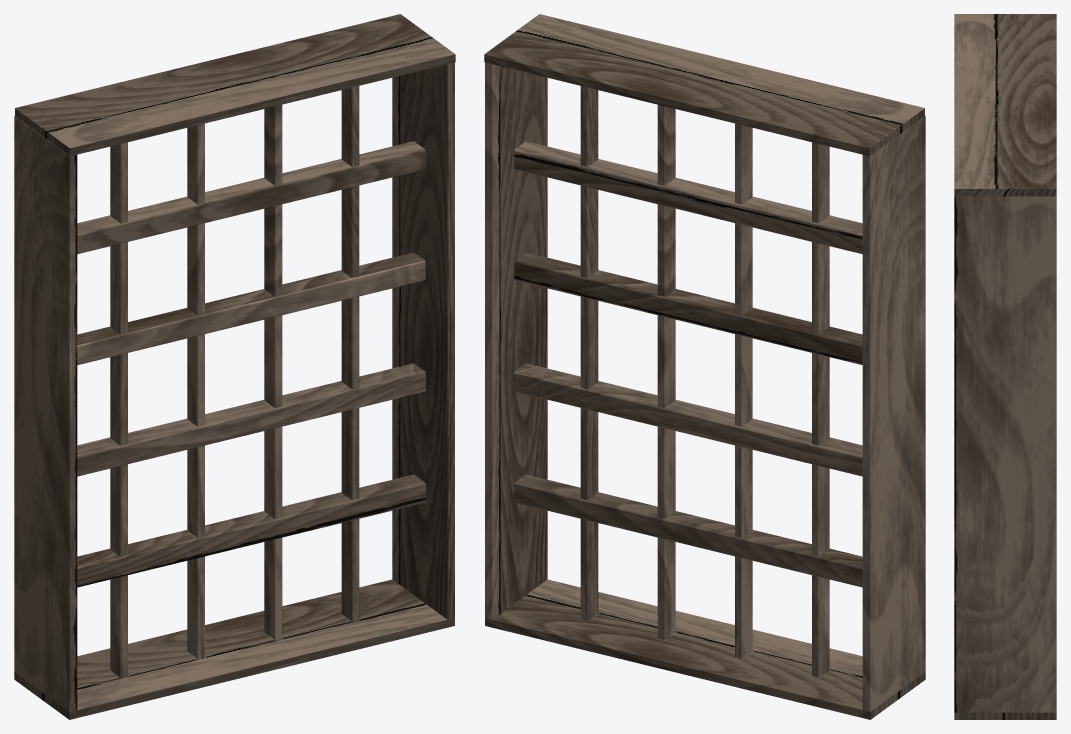
The model's file is SM_Window_Frame.fbx.
3 renders of one model, left to right at view 1: azimuth 30°, elevation 25°; view 2: azimuth 150°, elevation 25°; view 3: azimuth 270°, elevation 25°, orthographic. The views are drawn at different scales.
Visible parts, largest first — view 1: SM_Window_Frame; view 2: SM_Window_Frame; view 3: SM_Window_Frame.
Part boxes in pixels (x1,y1,x2,y2): SM_Window_Frame: [14, 14, 455, 719]; SM_Window_Frame: [484, 14, 925, 719]; SM_Window_Frame: [954, 14, 1056, 719].
Size of the model in its own units: 101 by 143 by 25.
